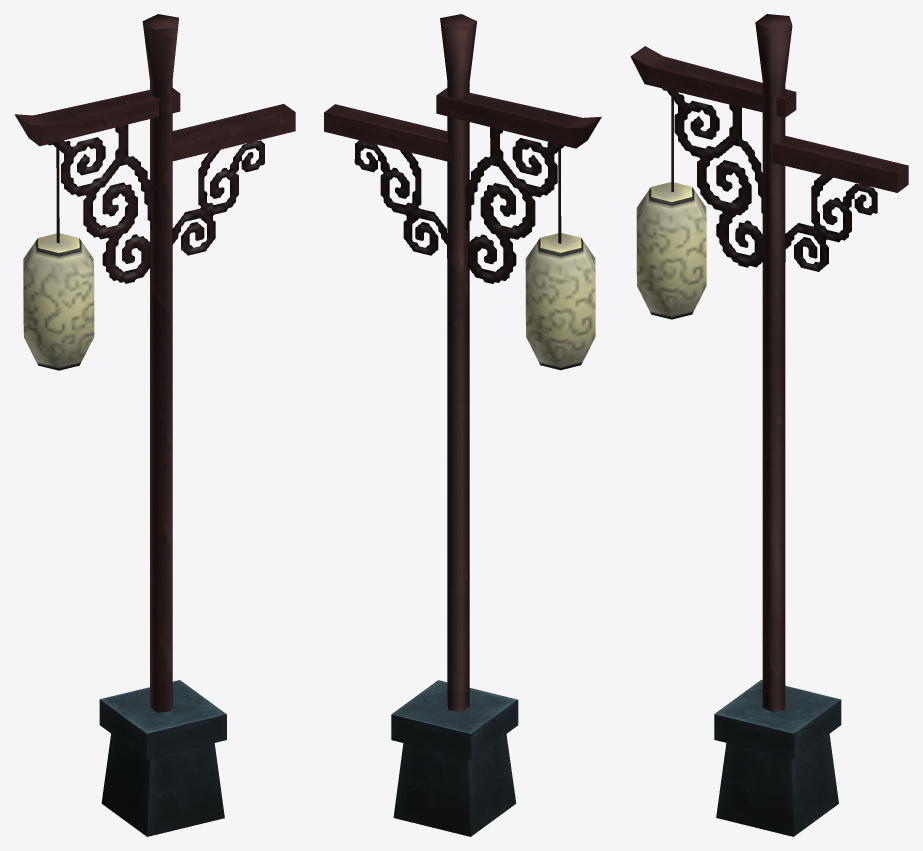
File: guideng.FBX
3 renders of one model, left to right at view 1: azimuth 30°, elevation 25°; view 2: azimuth 150°, elevation 25°; view 3: azimuth 330°, elevation 25°, orthographic.
Parts seen in each view (by area): view 1: guideng; view 2: guideng; view 3: guideng.
Part boxes in pixels (x1,y1,x2,y2): guideng: (14, 14, 295, 836); guideng: (324, 14, 601, 836); guideng: (630, 14, 908, 836).
Size of the model in its own units: 665 by 204 by 1880.
